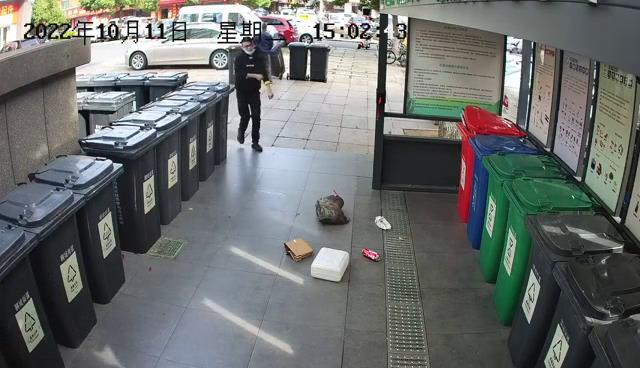lvzhipin: (361, 246, 381, 263), (374, 215, 392, 231)
paomozhipin: (311, 246, 350, 284)
person: (234, 37, 274, 153)
suliaozhipin: (314, 193, 351, 226)
zhizhipin: (282, 237, 314, 263)
